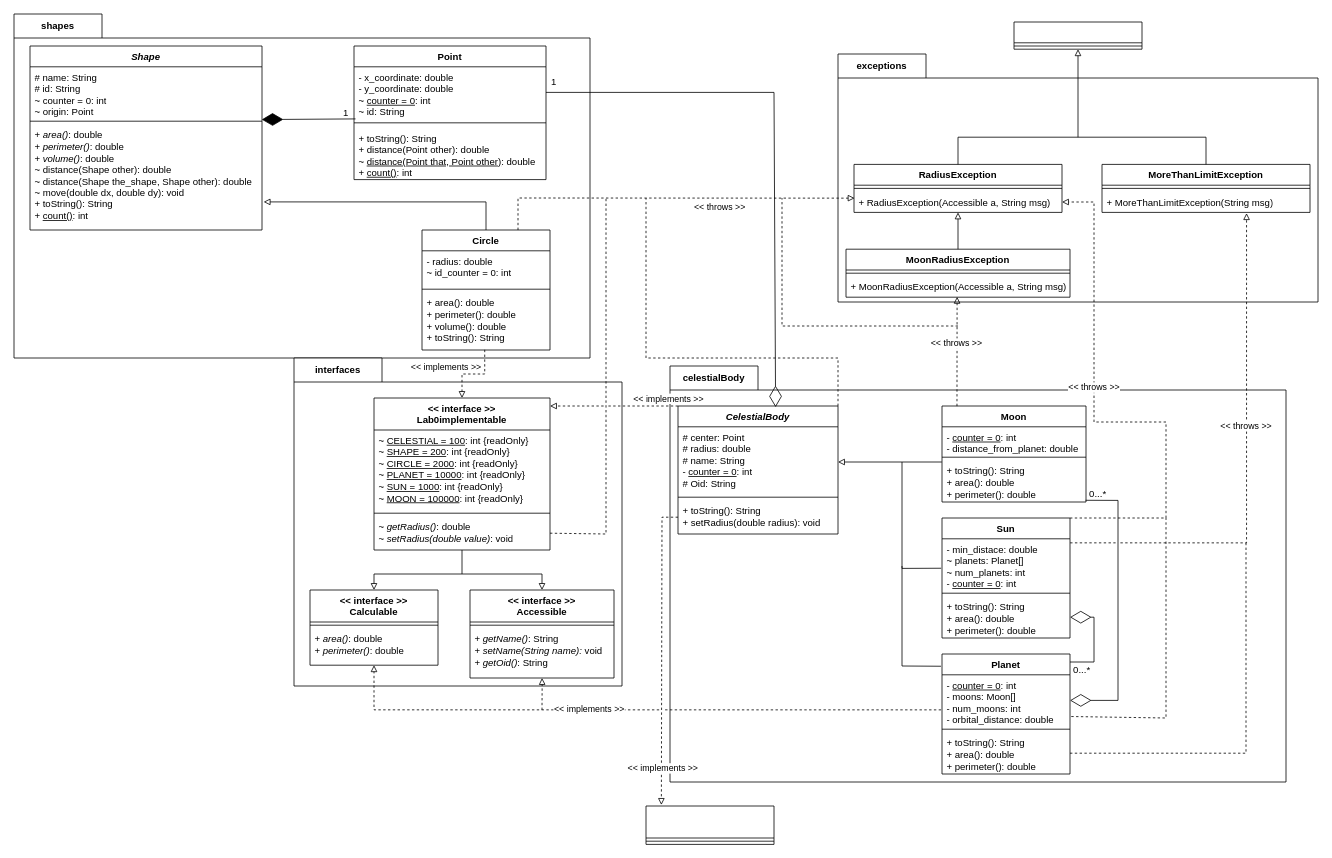
Image size: 1332x858. Some labels were removed from this diagram. The centre of each missing label's shape, as x and y in pixels:
"<< interface >> Cloneable" belongs at (x=709, y=824).
"Exception" belongs at (x=1077, y=35).
